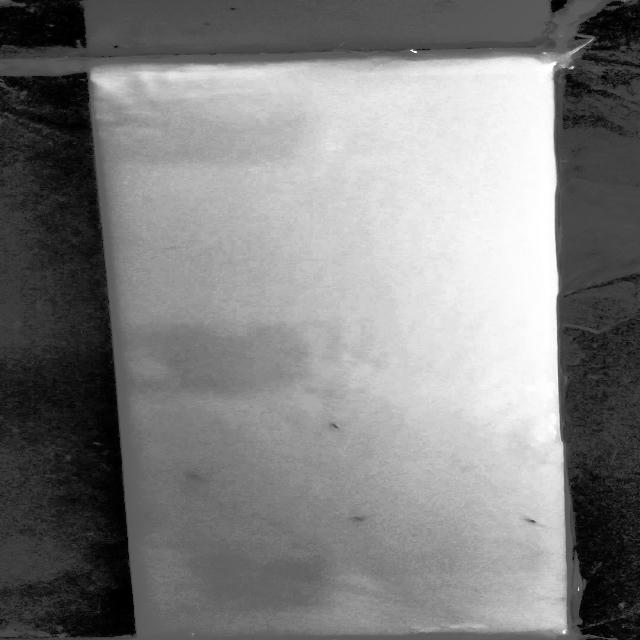shrimp: (344, 510, 376, 528), (515, 515, 549, 529), (178, 470, 210, 484), (322, 418, 346, 431)
